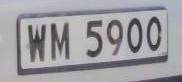0: (123, 13, 147, 57), (144, 11, 165, 57)
5: (81, 14, 105, 64)
9: (105, 13, 126, 62)
M: (48, 16, 76, 69)
W: (23, 18, 52, 69)
